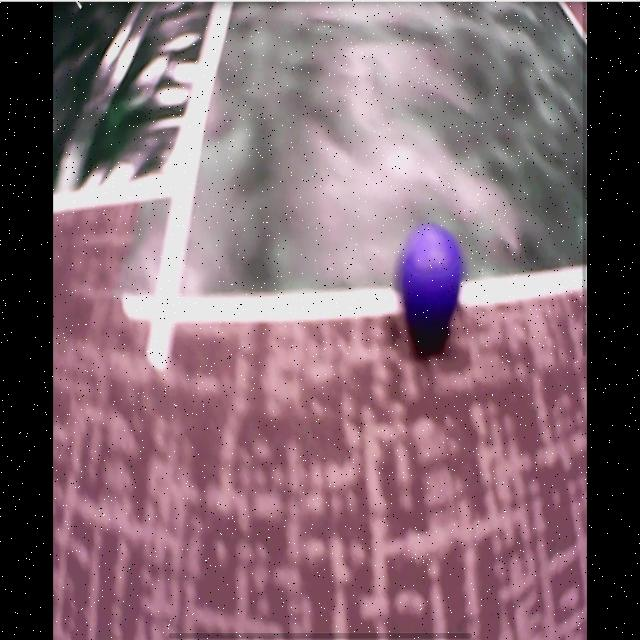ball: (399, 224, 462, 325)
